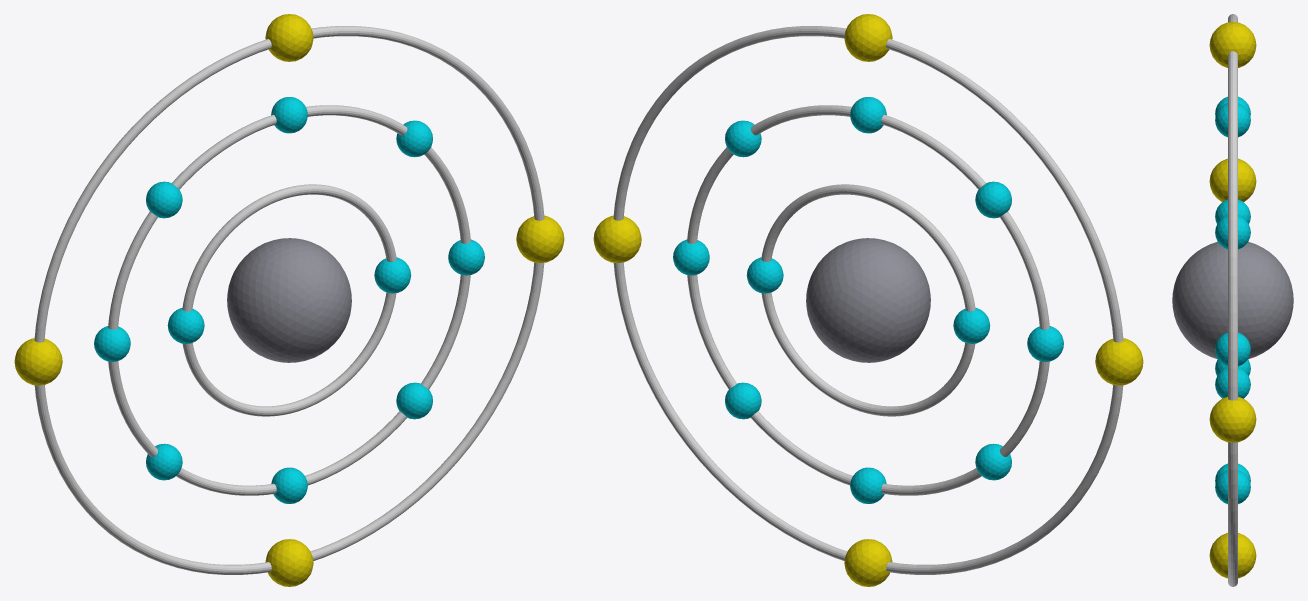
The picture shows the model from 3 angles, left to right: view 1: azimuth 30°, elevation 25°; view 2: azimuth 150°, elevation 25°; view 3: azimuth 270°, elevation 25°; orthographic projection. The views are drawn at different scales.
Parts seen in each view (by area): view 1: Camada_3, Nucleo_Si, Camada_2, Camada_1, Eletron_Valencia_3, Eletron_Valencia_1, Eletron_Valencia_2, Eletron_Valencia_4, Eletron_C2_4, Eletron_C2_8, Eletron_C1_2, Eletron_C2_5 (+6 smaller); view 2: Camada_3, Nucleo_Si, Camada_2, Camada_1, Eletron_Valencia_3, Eletron_Valencia_1, Eletron_Valencia_2, Eletron_Valencia_4, Eletron_C2_4, Eletron_C2_8, Eletron_C1_2, Eletron_C2_5 (+6 smaller); view 3: Nucleo_Si, Camada_3, Eletron_Valencia_1, Eletron_Valencia_2, Eletron_Valencia_4, Eletron_Valencia_3, Eletron_C2_8, Eletron_C2_3, Eletron_C1_1, Eletron_C2_2, Eletron_C2_1, Eletron_C2_5 (+3 smaller).
Boxes of the visible parts, x1,y1,x2,y2 form: Camada_3: (34,26,544,574); Nucleo_Si: (227,238,351,362); Camada_2: (108,105,470,495); Camada_1: (182,184,396,416); Eletron_Valencia_3: (14,338,62,385); Eletron_Valencia_1: (516,215,564,263); Eletron_Valencia_2: (265,14,313,61); Eletron_Valencia_4: (265,539,313,586); Eletron_C2_4: (146,181,182,218); Eletron_C2_8: (396,382,432,419); Eletron_C1_2: (167,308,204,343); Eletron_C2_5: (94,326,130,361); Camada_3: (613,26,1123,574); Nucleo_Si: (806,238,930,362); Camada_2: (687,105,1049,495); Camada_1: (761,184,975,416); Eletron_Valencia_3: (1095,338,1143,385); Eletron_Valencia_1: (593,215,641,263); Eletron_Valencia_2: (844,14,892,61); Eletron_Valencia_4: (844,539,892,586); Eletron_C2_4: (975,181,1011,218); Eletron_C2_8: (725,382,761,419); Eletron_C1_2: (953,308,990,343); Eletron_C2_5: (1027,326,1063,361); Nucleo_Si: (1172,242,1293,359); Camada_3: (1228,14,1237,586); Eletron_Valencia_1: (1209,396,1256,442); Eletron_Valencia_2: (1209,22,1256,67); Eletron_Valencia_4: (1209,533,1256,578); Eletron_Valencia_3: (1209,158,1256,201); Eletron_C2_8: (1215,470,1250,504); Eletron_C2_3: (1215,103,1250,137); Eletron_C1_1: (1215,332,1250,366); Eletron_C2_2: (1215,215,1250,249); Eletron_C2_1: (1215,367,1250,398); Eletron_C2_5: (1215,199,1250,223).
Size of the model in its own units: 2.21 by 2.21 by 0.44.
